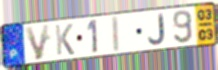1: (85, 18, 99, 55)
9: (172, 9, 193, 45)
I: (111, 14, 122, 54)
J: (147, 12, 166, 46)
K: (54, 23, 76, 57)
V: (23, 23, 51, 62)
